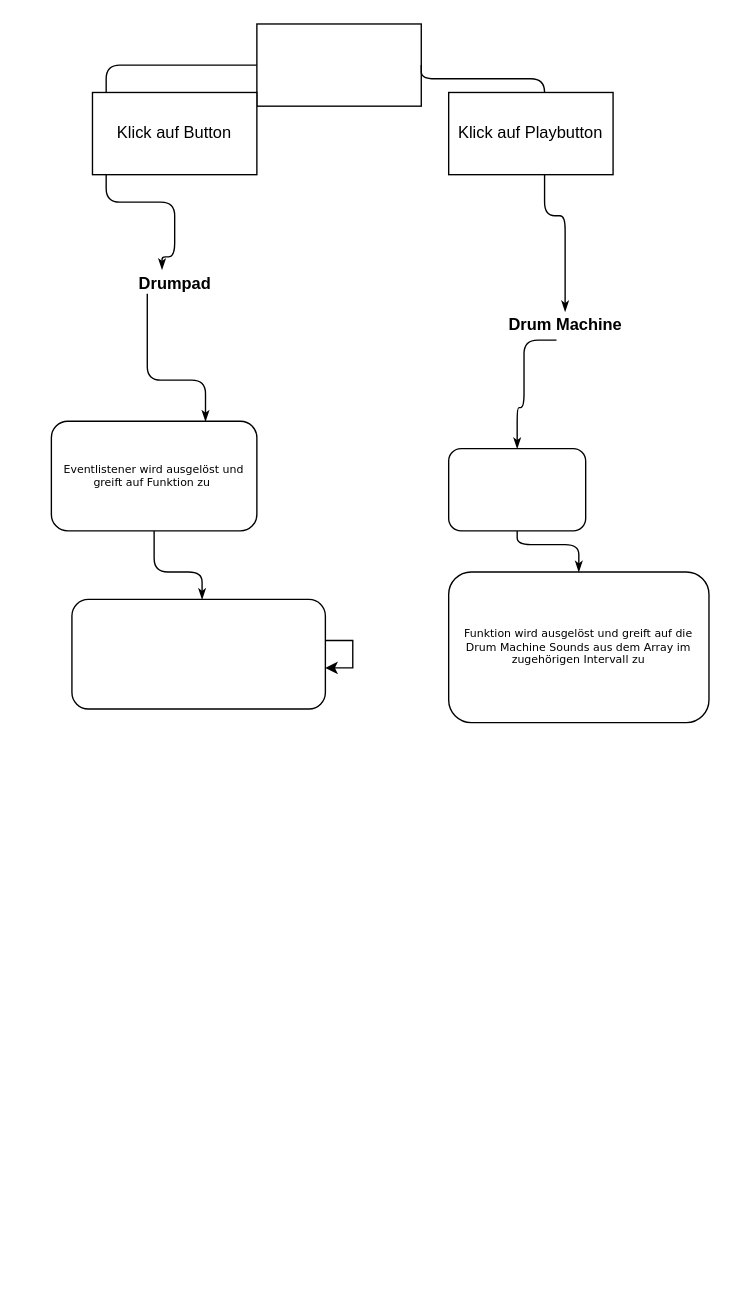
Some shapes in this 733 by 1295 pixel diagram are drawn without their labels. Each missing label, with the centre of its shape:
"Eventlistener wird ausgelöst und greift auf die Funktion zu" goes at point (516, 489).
"Funktion wird ausgelöst und greift auf die zugehörigen Töne aus dem Array zu" goes at point (198, 653).
"Öffne Seite" goes at point (338, 64).
